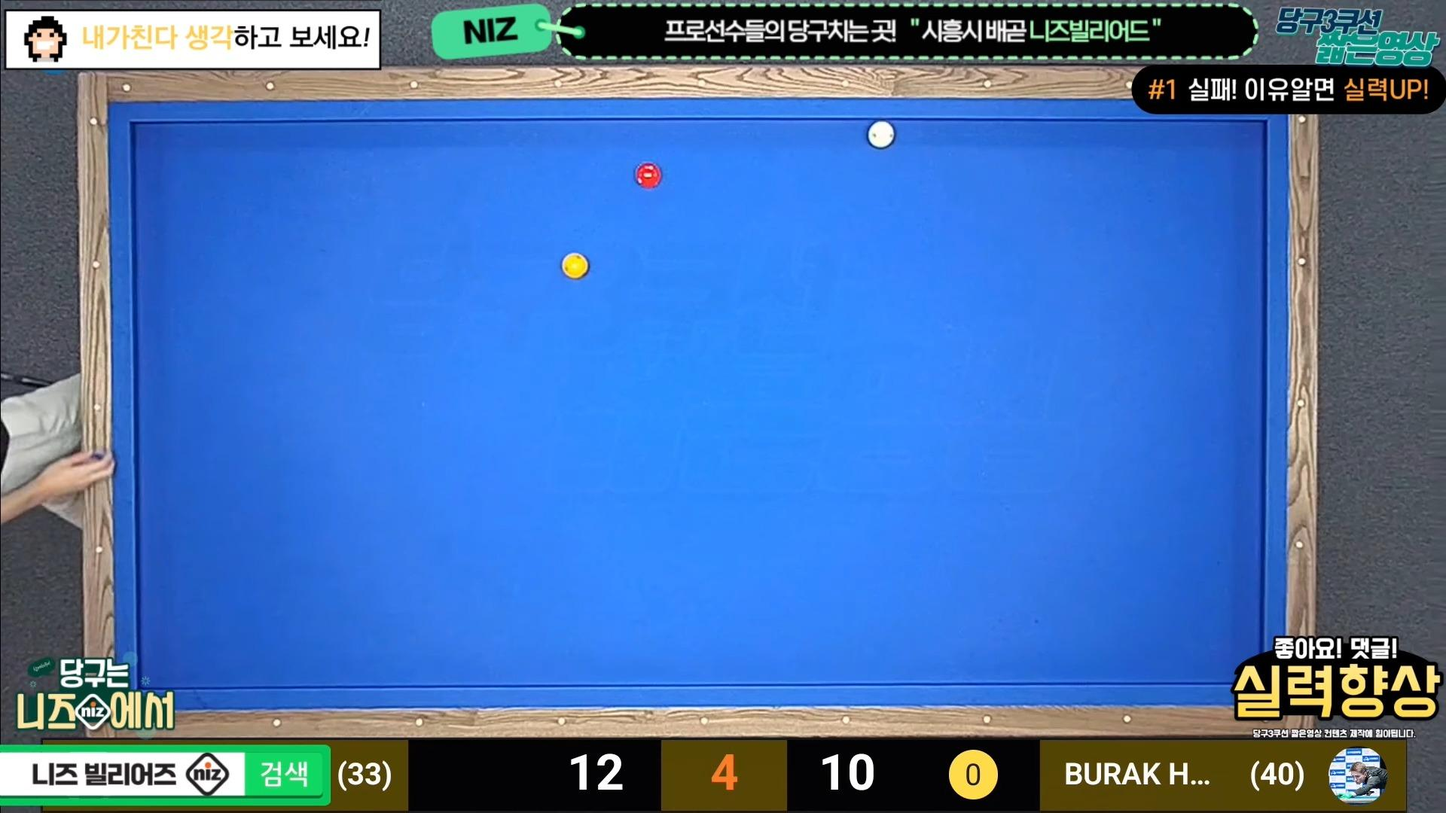-billiard-ball: (560, 251, 589, 279)
Red: (634, 164, 666, 191)
White: (866, 121, 900, 151)
Yellow: (560, 253, 592, 282)
